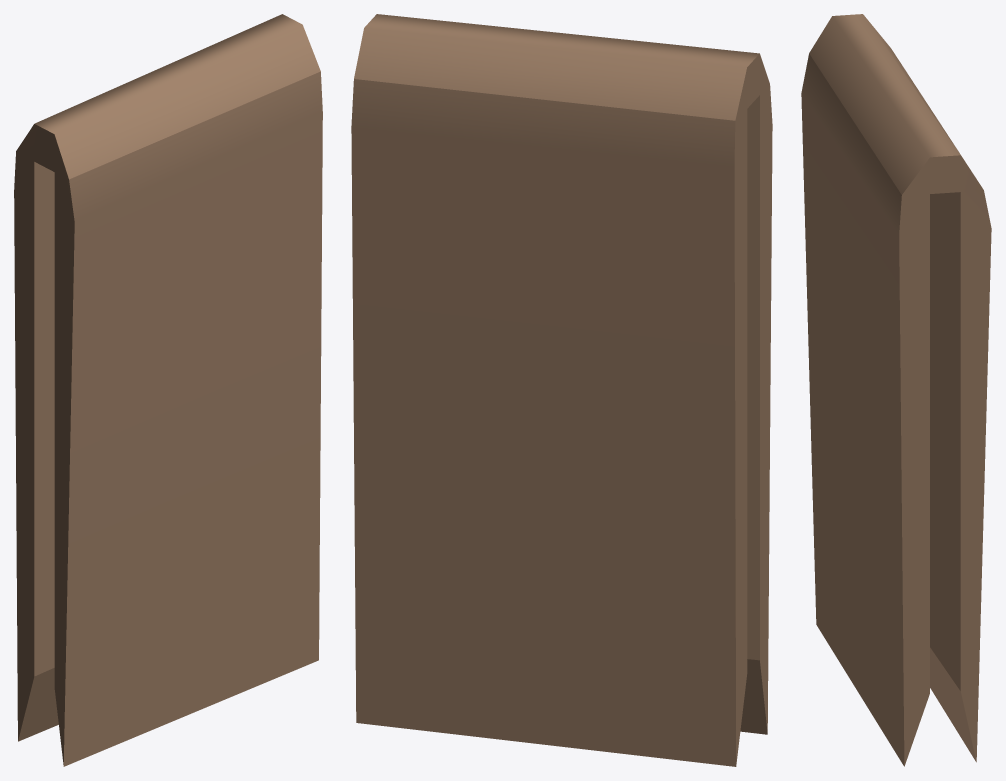
The model's file is Towel Large.fbx.
The picture shows the model from 3 angles, left to right: view 1: azimuth 30°, elevation 25°; view 2: azimuth 150°, elevation 25°; view 3: azimuth 270°, elevation 25°; orthographic projection. The views are drawn at different scales.
Visible parts, largest first — view 1: pCube54; view 2: pCube54; view 3: pCube54.
Part boxes in pixels (x1,y1,x2,y2): pCube54: (14,14,322,766); pCube54: (351,14,772,766); pCube54: (801,14,991,766).
Bounding box in the file's own units: 19.72 × 37.92 × 10.75.
